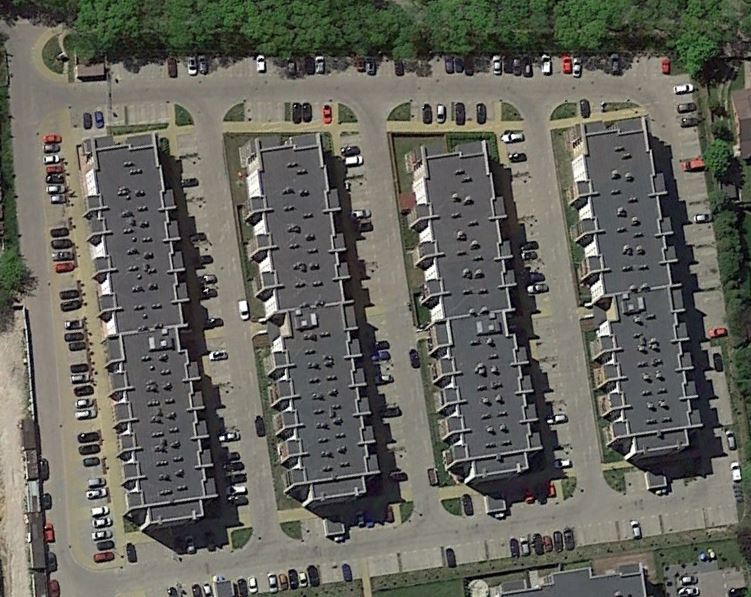block of flats: (70, 130, 226, 533), (239, 130, 389, 513), (405, 147, 547, 490), (563, 118, 702, 464)
